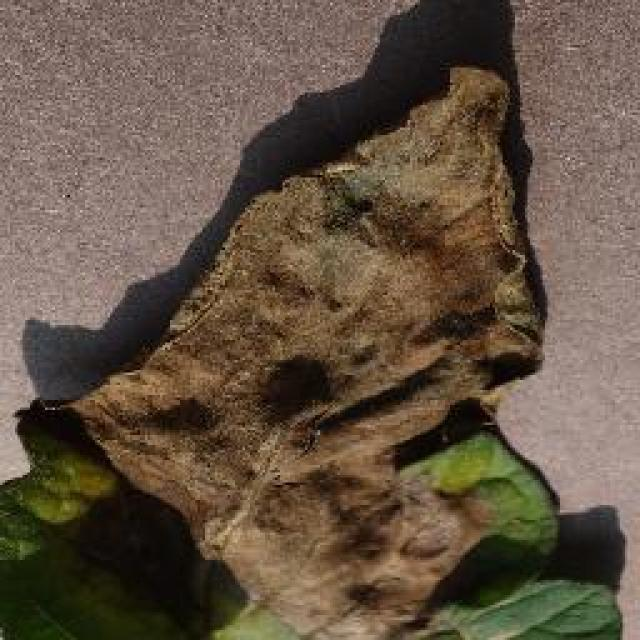Tomato Late Blight: (88, 80, 552, 637)
